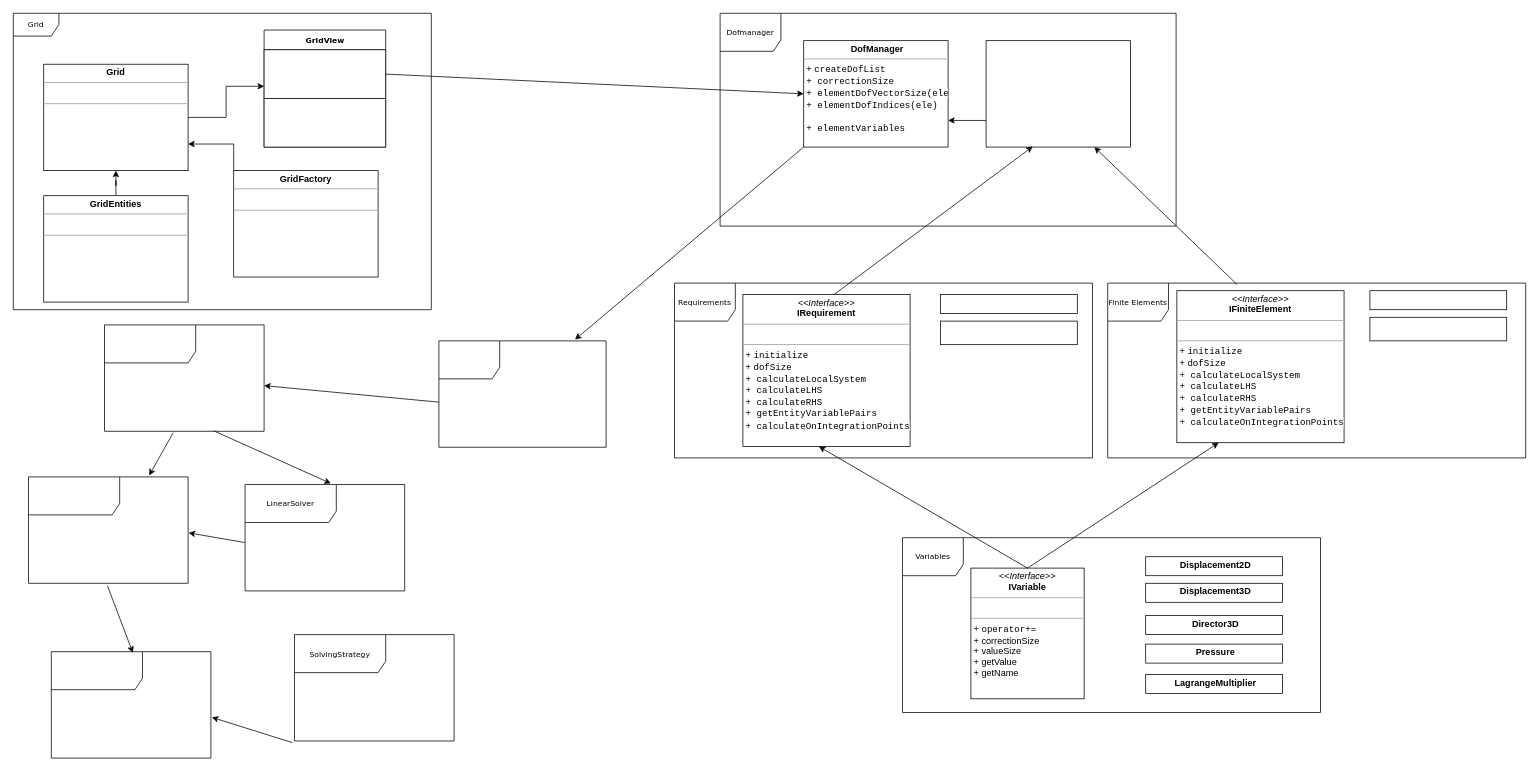
Image size: 1539x771. Some labels were removed from this diagram. The centre of each missing label's shape, as x and y in pixels:
"+ elements(gv) + vertices(gv) + edges(gv) + surfaces(gv)" belongs at point (324, 122).
"Assembler" belongs at point (522, 393).
"ControlRoutine" belongs at point (131, 704).
"DofManagerFactory" belongs at point (1057, 93).
"KL Schale" belongs at point (1438, 329).
"LinearAlgebraAdapter" belongs at point (184, 377).
"Neumann" belongs at point (1008, 304).
"NonLinearSolver" belongs at point (108, 529).
"Q1" belongs at point (1438, 300).
"Selfcontact" belongs at point (1008, 332).
